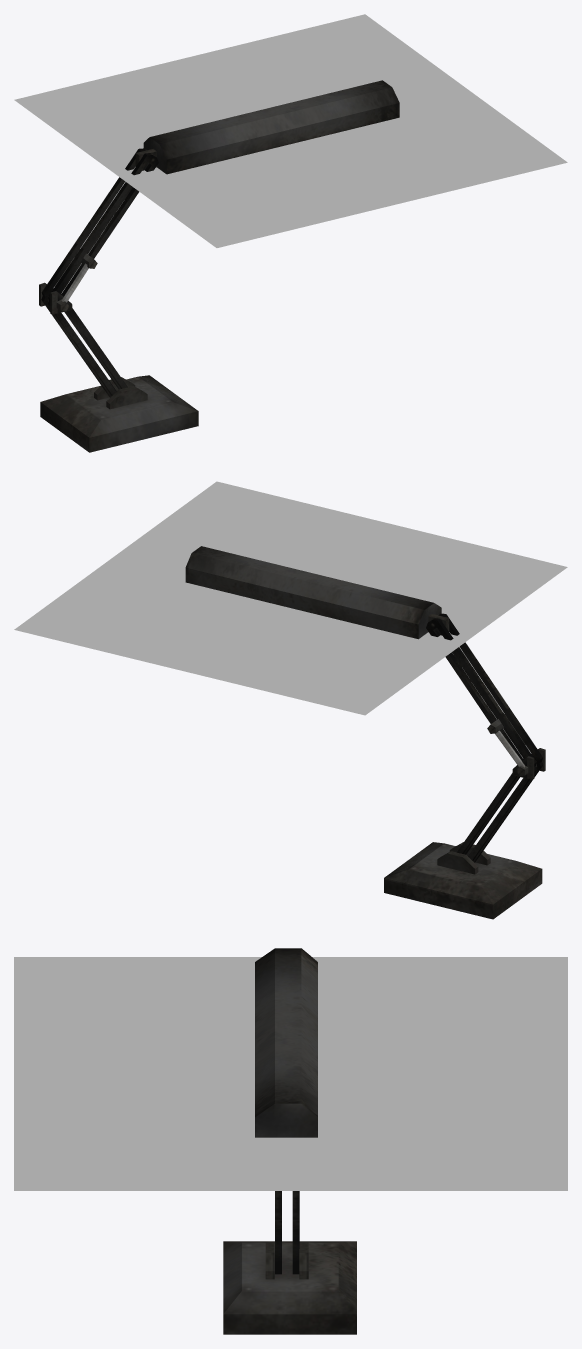
File: mining_room_desklamp.dae
3 views of the same model, one above another, from view 1: azimuth 30°, elevation 25°; view 2: azimuth 150°, elevation 25°; view 3: azimuth 270°, elevation 25° (orthographic). The views are drawn at different scales.
Parts seen in each view (by area): view 1: _bb_light_white_halo02_halo01, stand; view 2: _bb_light_white_halo02_halo01, stand; view 3: _bb_light_white_halo02_halo01, stand.
Part boxes in pixels (<box>): _bb_light_white_halo02_halo01: <box>14,14,567,247</box>; stand: <box>39,80,399,452</box>; _bb_light_white_halo02_halo01: <box>14,481,567,715</box>; stand: <box>185,546,545,919</box>; _bb_light_white_halo02_halo01: <box>14,957,567,1190</box>; stand: <box>223,948,356,1334</box>.
Size of what is drawn, in the model's own units: 1.2 by 0.7426 by 1.
